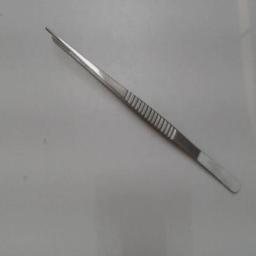DeBakey Dissector: (30, 14, 254, 214)
